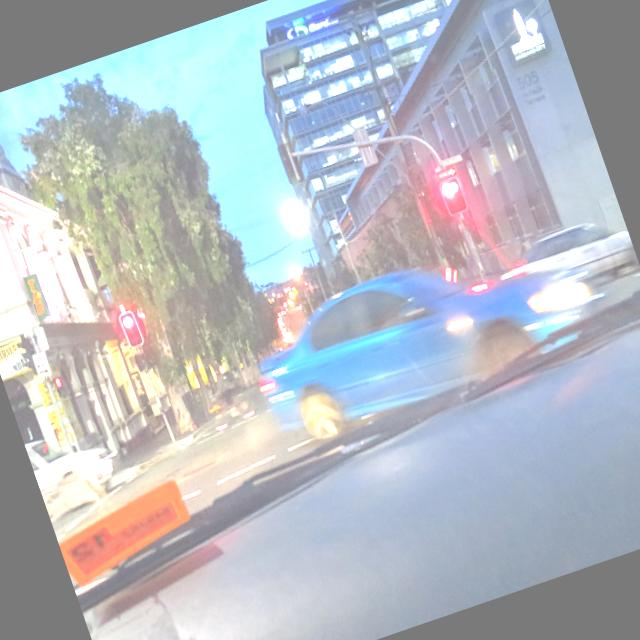Vehicle: (237, 214, 612, 456), (497, 208, 640, 308), (24, 418, 120, 518)
